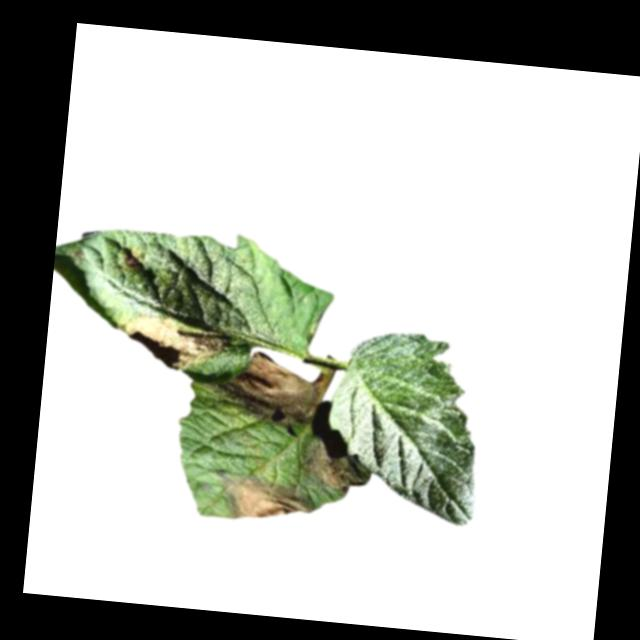Late_blight: (209, 346, 327, 427), (116, 311, 232, 376), (212, 469, 316, 528), (296, 435, 369, 495), (121, 247, 147, 274)
healthy: (318, 324, 493, 528)
